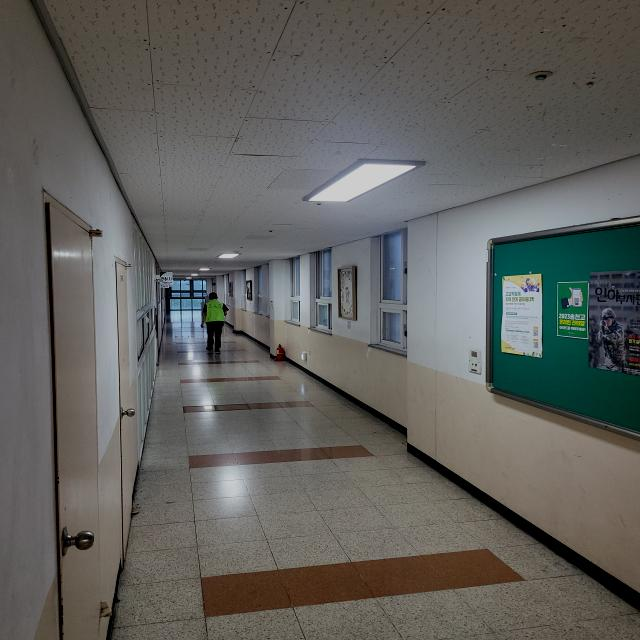weston_spy: (200, 295, 230, 330)
